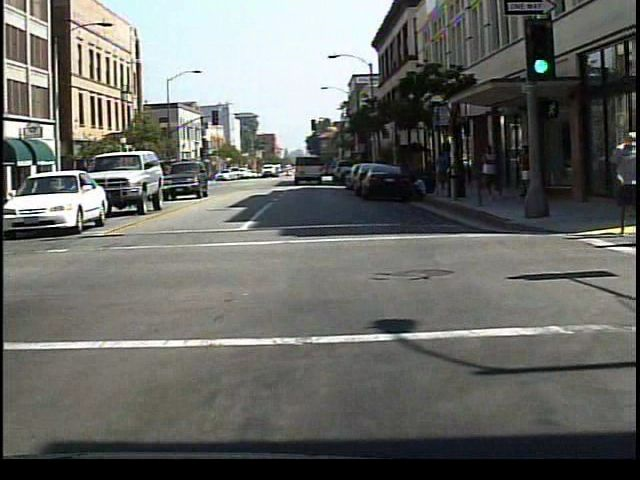person: (479, 140, 511, 207)
